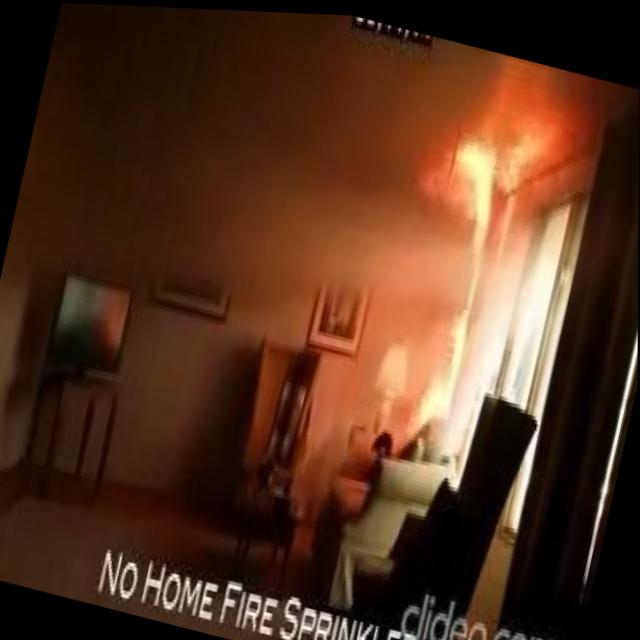fire: (414, 178, 497, 412), (498, 110, 549, 204), (444, 129, 503, 180)
